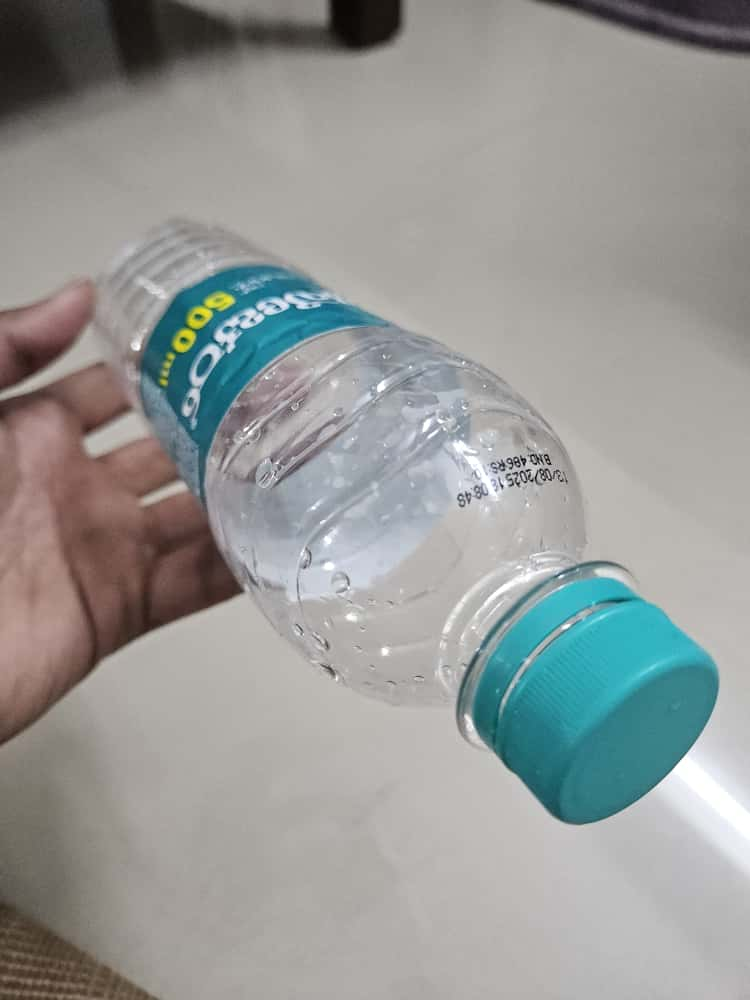dry: (30, 193, 750, 840)
